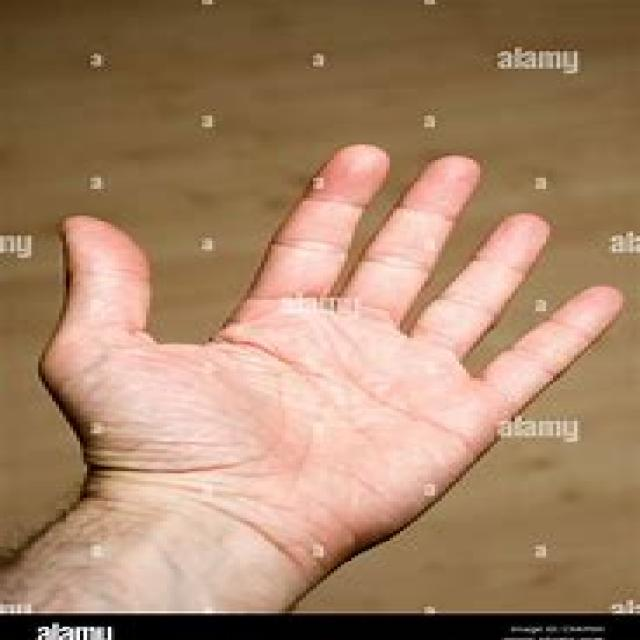not-gloved: (28, 130, 627, 555)
